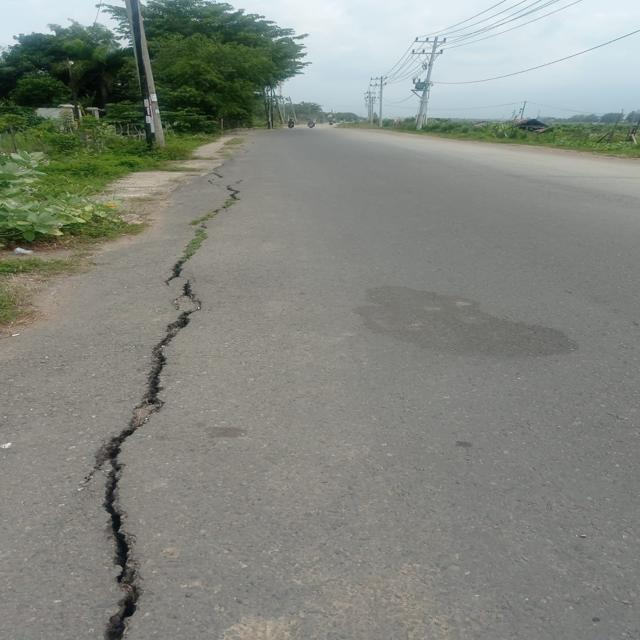Memanjang: (82, 169, 249, 640)
